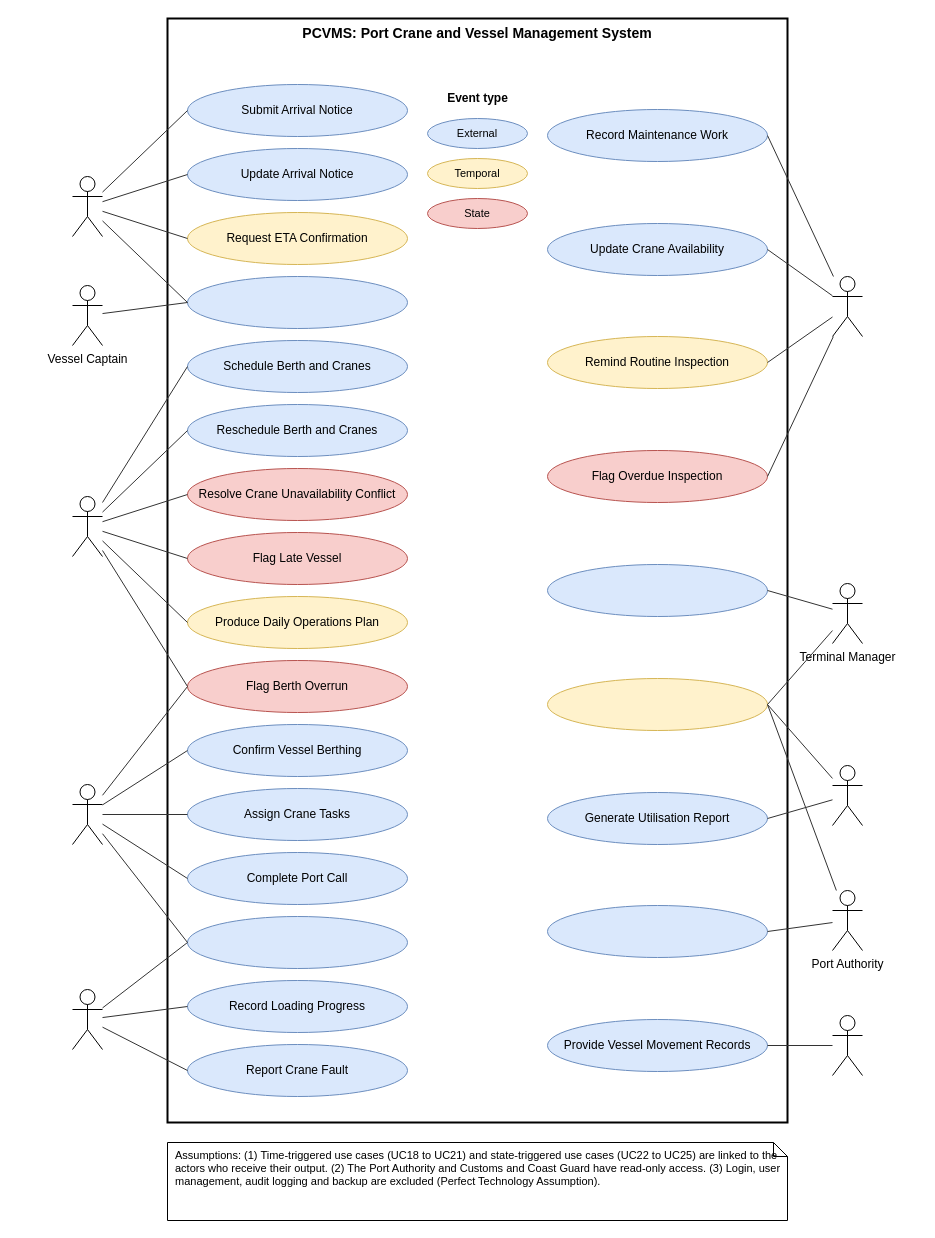
Image size: 935x1238. Some labels were removed from this diagram. Here are the shapes that lost their labels. From the top down, the box of each, then its label:
(72, 176, 102, 236): Shipping Agent
(186, 276, 408, 328): View Vessel Status
(832, 276, 862, 336): Maintenance Technician
(72, 496, 102, 556): Port Operations Planner
(546, 564, 768, 616): View Performance Dashboard
(546, 678, 768, 730): Produce Monthly Performance Report
(72, 784, 102, 844): Berth and Yard Supervisor
(832, 764, 862, 826): Finance Manager
(186, 916, 408, 968): Record Delay
(546, 904, 768, 958): Provide Authority Statistics
(72, 988, 102, 1050): Crane Operator
(832, 1014, 862, 1076): Customs and Coast Guard
